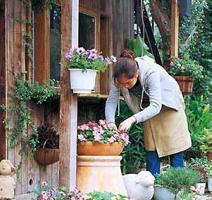person: (106, 51, 192, 177)
